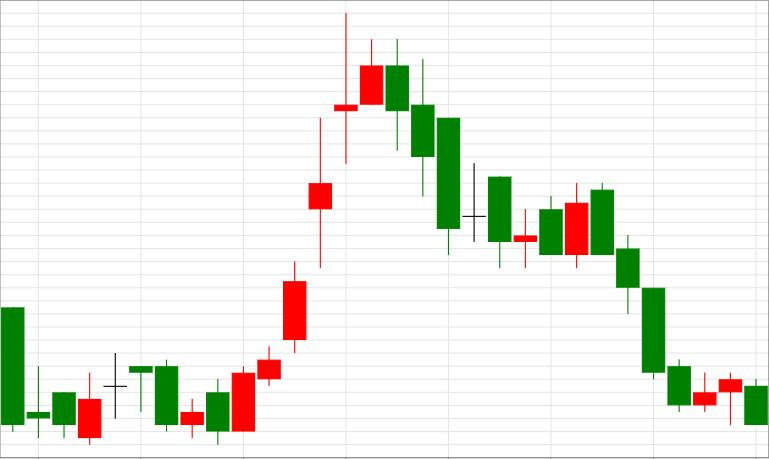bearish_engulfing_fall: (232, 13, 409, 431)
